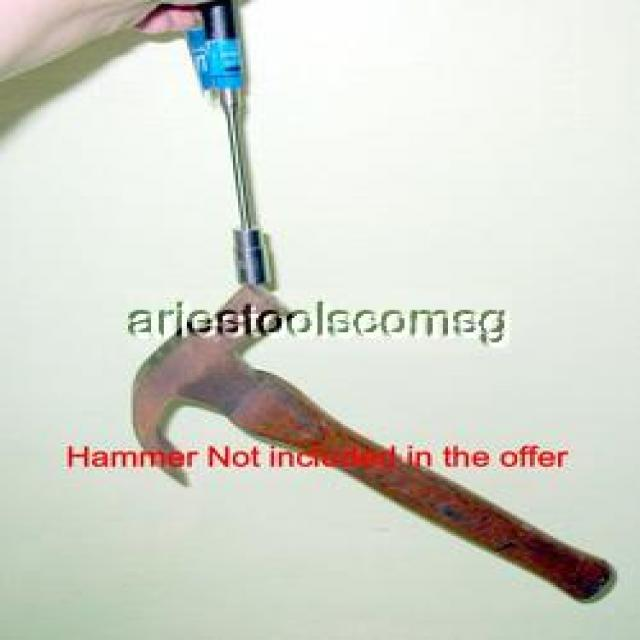hammer: (103, 272, 622, 614)
